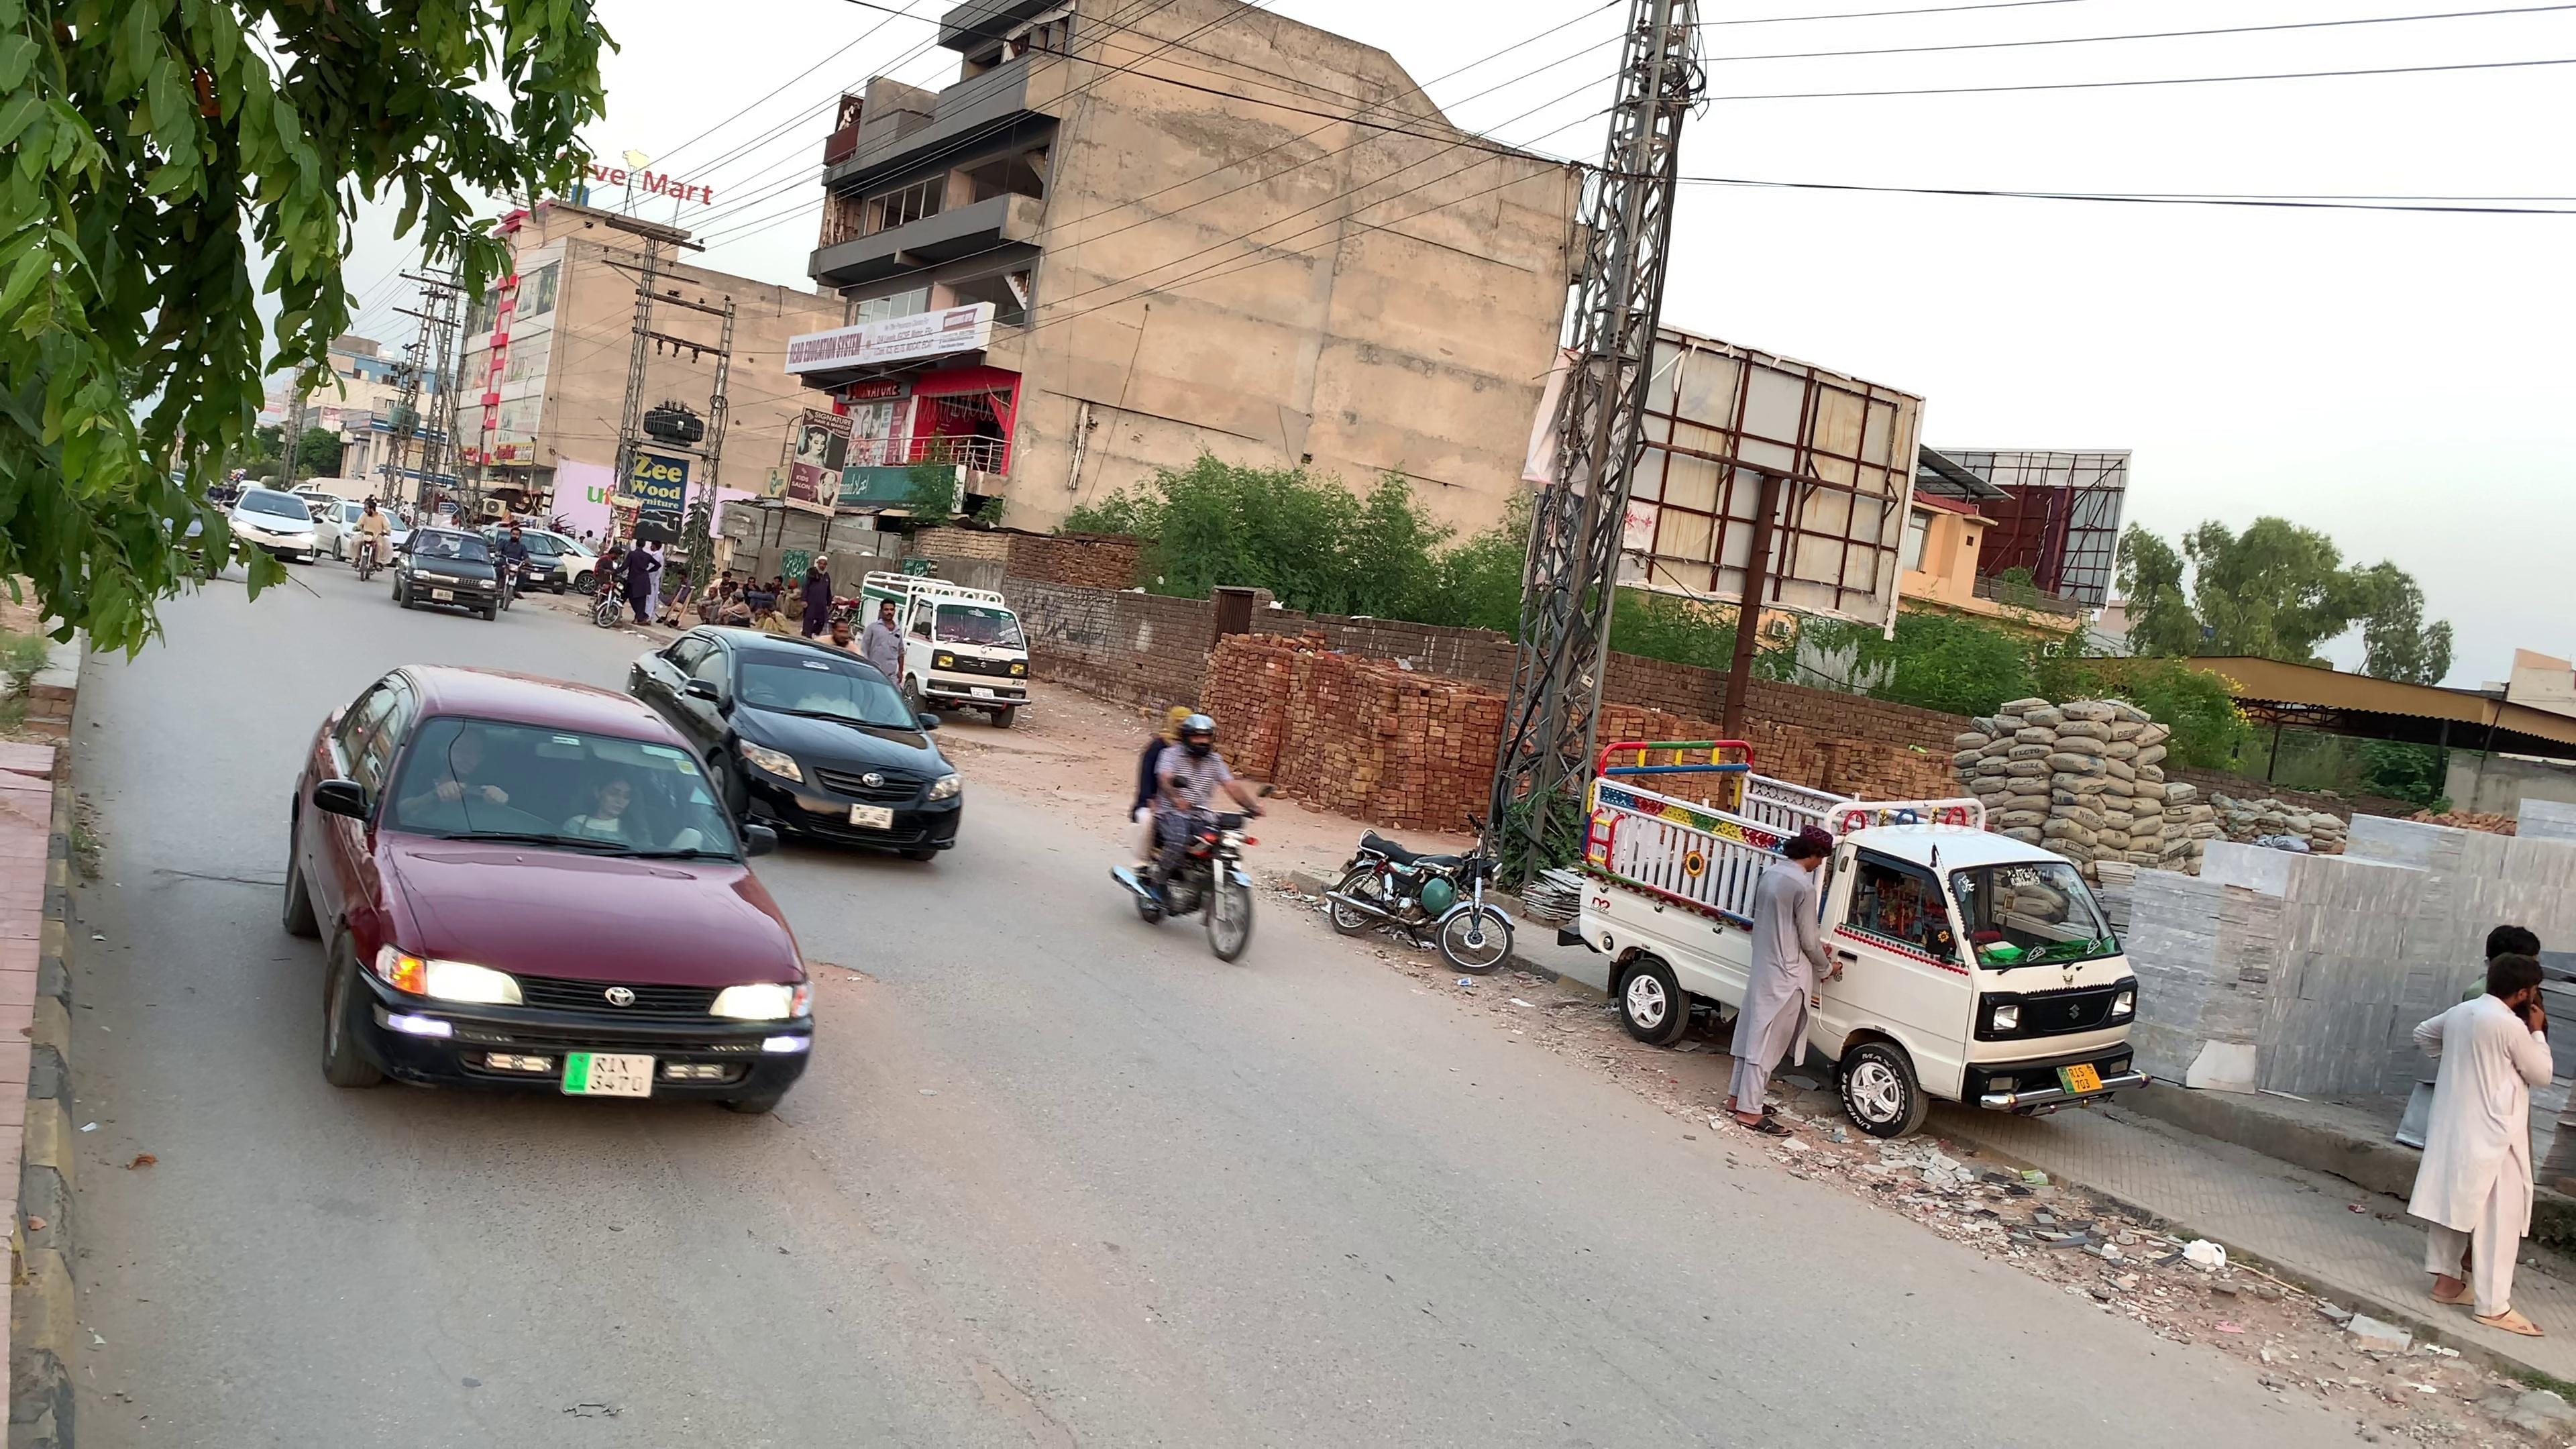windshield: (366, 692, 755, 869)
